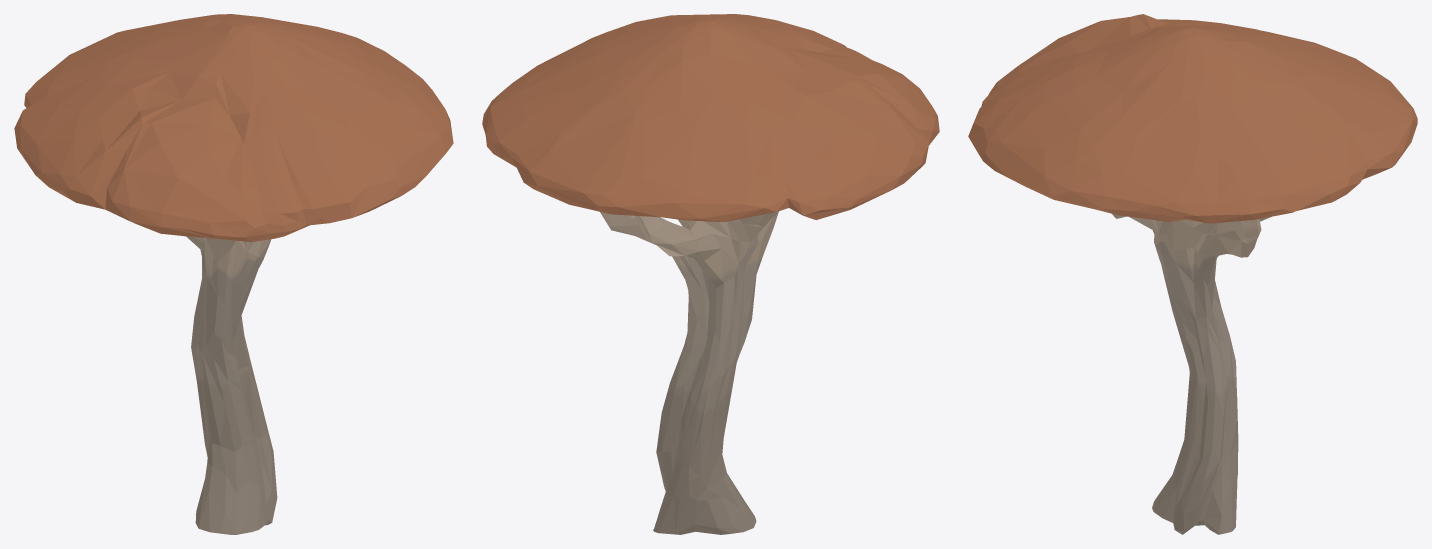
The model's file is SM_Env_Mushroom_05.gltf.
3 views of the same model, side by side, from view 1: azimuth 30°, elevation 25°; view 2: azimuth 150°, elevation 25°; view 3: azimuth 270°, elevation 25° (orthographic). The views are drawn at different scales.
Visible parts, largest first — view 1: SM_Env_Mushroom_05_LOD0; view 2: SM_Env_Mushroom_05_LOD0; view 3: SM_Env_Mushroom_05_LOD0.
Boxes of the visible parts, left/top/right/bottom form: SM_Env_Mushroom_05_LOD0: left=14, top=14, right=453, bottom=534; SM_Env_Mushroom_05_LOD0: left=482, top=14, right=939, bottom=534; SM_Env_Mushroom_05_LOD0: left=968, top=14, right=1417, bottom=534.
Bounding box in the file's own units: 5.69 × 7.18 × 5.93.
Materials: 1 (1 with a texture image).
